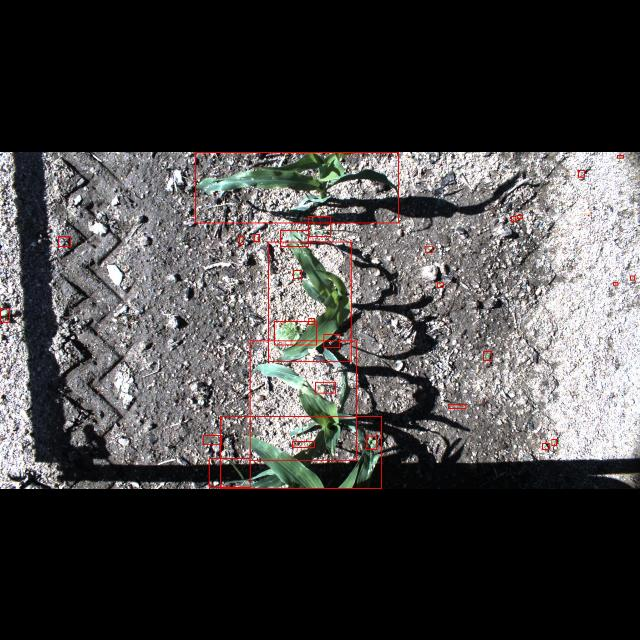crop: (195, 152, 398, 222), (250, 340, 356, 460), (220, 416, 382, 488), (268, 241, 352, 361)
weed: (208, 458, 250, 487), (274, 321, 316, 345), (281, 230, 309, 246), (308, 216, 330, 236), (324, 333, 340, 347), (315, 382, 335, 392), (203, 436, 221, 444), (0, 308, 10, 322), (293, 441, 315, 447), (366, 436, 376, 448), (58, 236, 70, 246), (484, 350, 492, 360), (448, 404, 466, 408), (293, 270, 301, 278), (542, 443, 550, 449), (254, 233, 260, 240), (578, 170, 584, 177), (426, 245, 432, 251), (309, 318, 315, 324), (239, 236, 243, 244), (552, 438, 556, 446), (437, 282, 443, 286), (617, 154, 623, 158), (512, 216, 516, 220), (518, 214, 522, 218), (631, 275, 635, 279), (614, 282, 618, 284)
